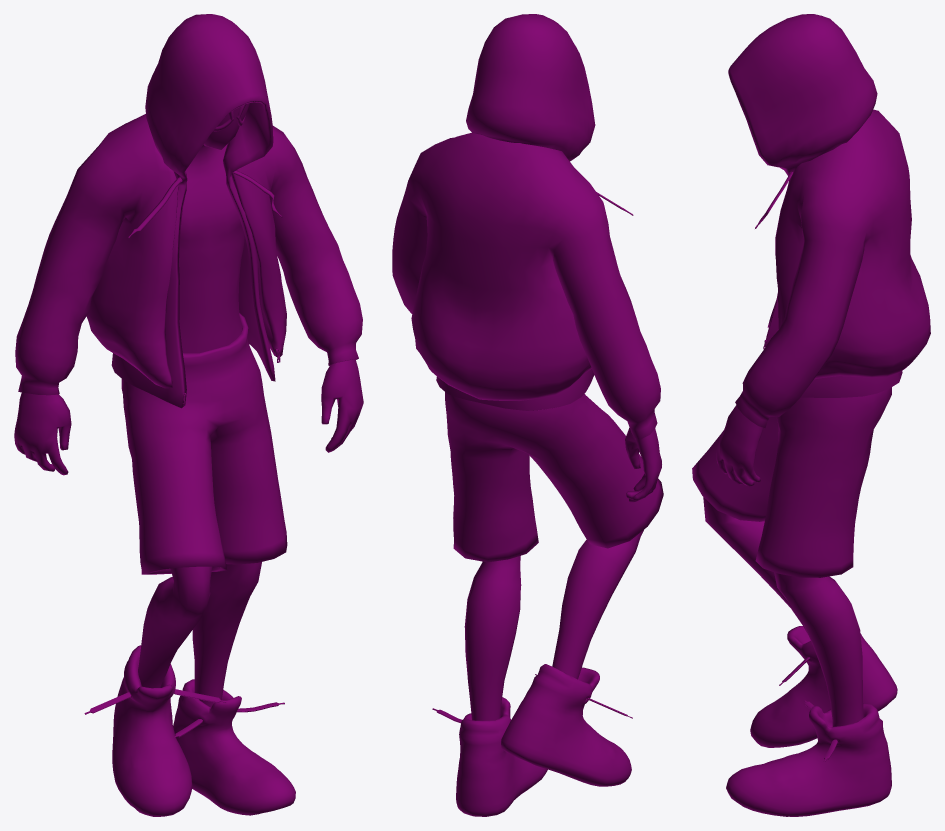
File: miles.glb
3 renders of one model, left to right at view 1: azimuth 30°, elevation 25°; view 2: azimuth 150°, elevation 25°; view 3: azimuth 270°, elevation 25°, orthographic.
Visible parts, largest first — view 1: jacket, shorts, body, hoodie, shoes, laces, hoodie_laces; view 2: jacket, shorts, hoodie, shoes, body; view 3: jacket, shorts, hoodie, shoes, body.
Boxes of the visible parts, x1,y1,x2,y2 form: jacket: (15,114,362,395); shorts: (121,313,287,574); body: (14,107,363,707); hoodie: (111,14,275,408); shoes: (112,645,295,816); laces: (84,689,284,737); hoodie_laces: (127,170,282,238); jacket: (392,132,660,439); shorts: (445,392,663,562); hoodie: (436,14,595,410); shoes: (456,664,631,816); body: (464,427,661,720); jacket: (735,109,930,427); shorts: (692,387,891,577); hoodie: (728,14,902,397); shoes: (726,626,897,816); body: (703,405,863,726).
Bounding box in the file's own units: 10.11 × 25.4 × 7.1.
